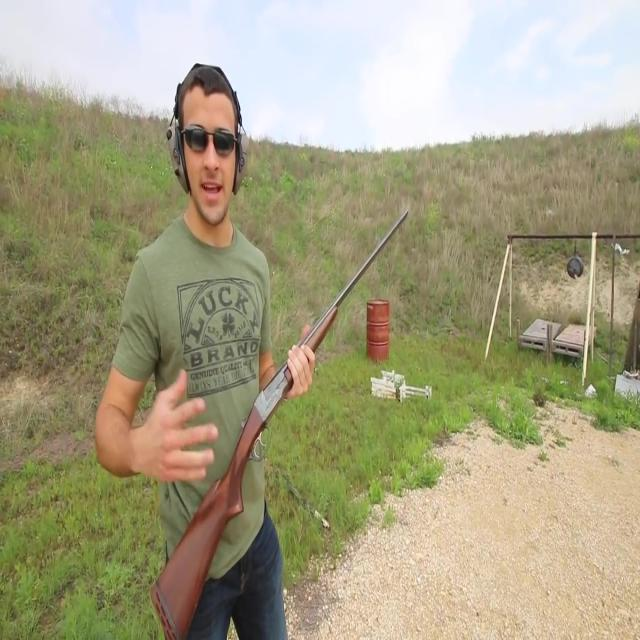Weapon: (129, 177, 395, 640)
